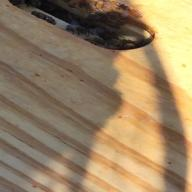Bee: (118, 3, 148, 18)
